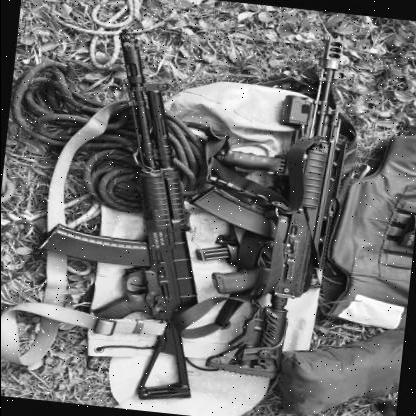rifle: (29, 11, 204, 403), (197, 20, 381, 387)
